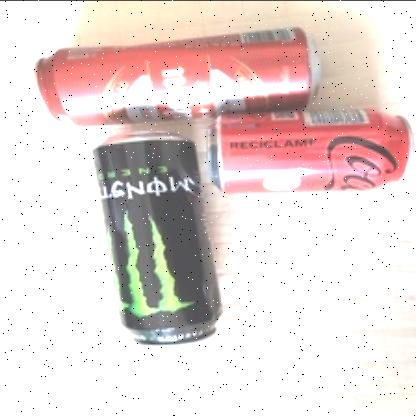Can: (33, 24, 325, 127), (92, 133, 222, 347), (209, 105, 416, 193)
